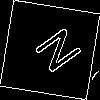N: (25, 25, 84, 81)
